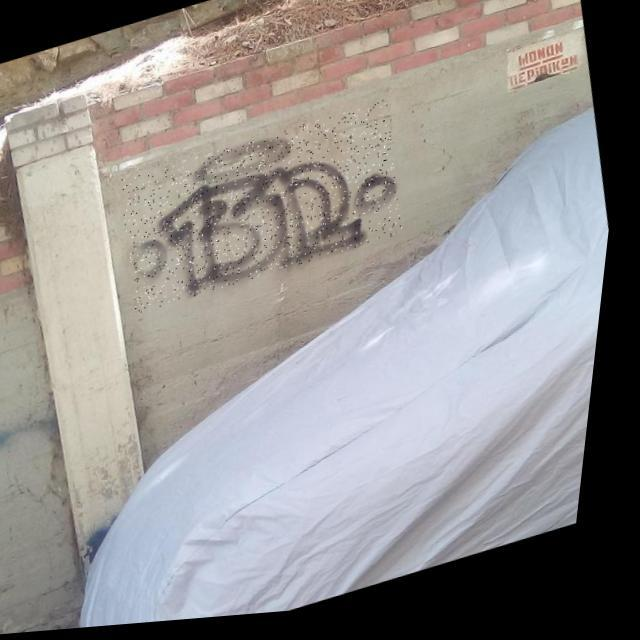-: (112, 104, 420, 318)
